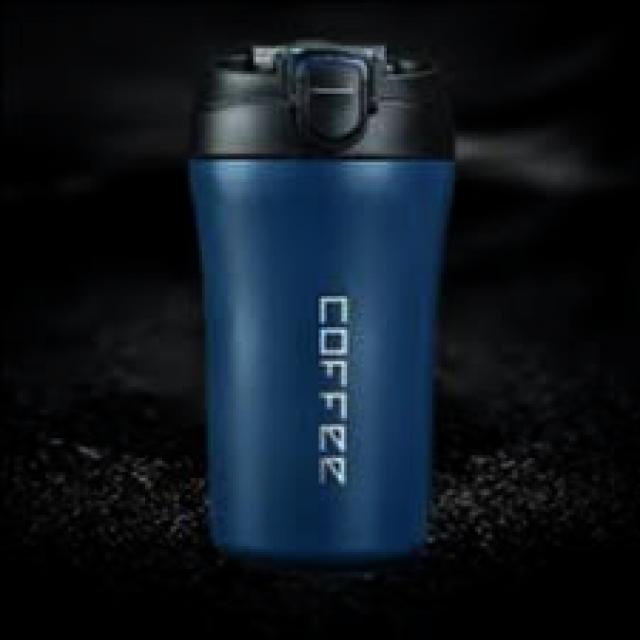bottle: (179, 31, 461, 569)
